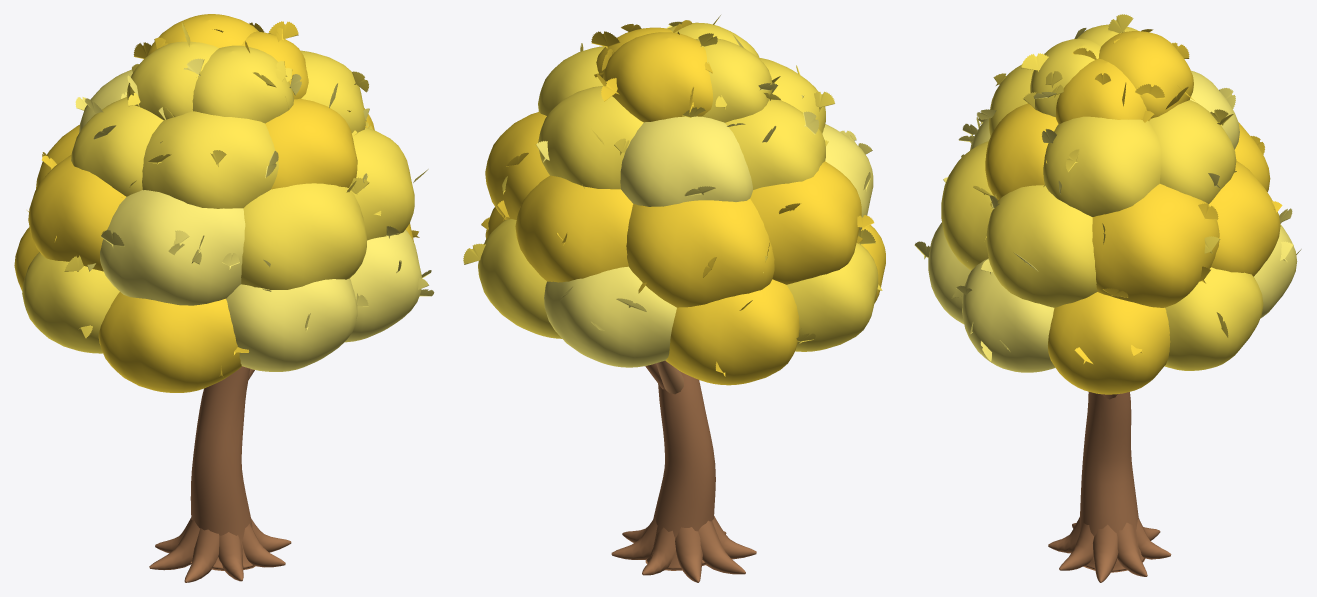
File: autumn_ginkgo_tree_soft.glb
3 views of the same model, side by side, from view 1: azimuth 30°, elevation 25°; view 2: azimuth 150°, elevation 25°; view 3: azimuth 270°, elevation 25° (orthographic). The views are drawn at different scales.
Parts seen in each view (by area): view 1: Autumn_Ginkgo_Tree; view 2: Autumn_Ginkgo_Tree; view 3: Autumn_Ginkgo_Tree.
Boxes of the visible parts, bbox=[...] form: Autumn_Ginkgo_Tree: bbox=[14, 14, 434, 582]; Autumn_Ginkgo_Tree: bbox=[463, 15, 885, 582]; Autumn_Ginkgo_Tree: bbox=[914, 14, 1301, 582].
Size of the model in its own units: 4.84 by 6.59 by 4.4.
